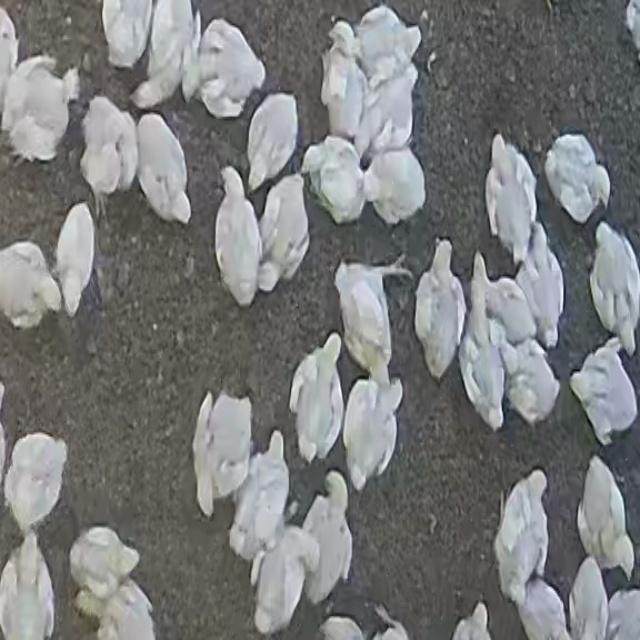chicken: (333, 256, 412, 382), (2, 58, 79, 166), (229, 429, 293, 557), (192, 391, 255, 518), (250, 522, 320, 634), (191, 18, 266, 121), (414, 239, 466, 380), (497, 474, 552, 607), (576, 457, 633, 585), (456, 280, 506, 423), (290, 336, 346, 463), (79, 96, 138, 216), (135, 0, 199, 108), (343, 380, 403, 493), (301, 474, 353, 604), (571, 340, 635, 443), (4, 433, 69, 534), (258, 173, 312, 292), (214, 168, 261, 304), (485, 135, 536, 259), (591, 224, 640, 352), (516, 224, 566, 348), (135, 112, 191, 222), (471, 251, 540, 340), (358, 62, 419, 162), (0, 532, 58, 636), (68, 526, 142, 607), (320, 22, 368, 146), (353, 4, 423, 89), (300, 136, 366, 226), (545, 135, 611, 224), (502, 337, 562, 429), (0, 241, 60, 330), (363, 144, 426, 228), (54, 203, 96, 317), (250, 91, 299, 186), (101, 1, 156, 71), (96, 580, 161, 638), (566, 559, 608, 638)
